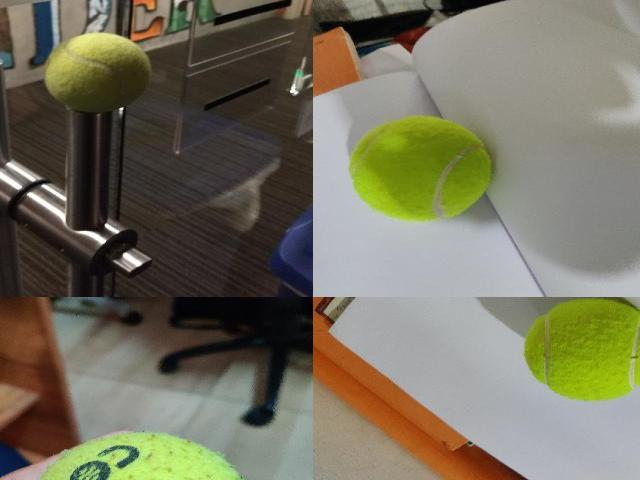tennis-ball: (348, 116, 493, 224), (523, 297, 639, 402), (40, 430, 242, 480), (42, 31, 152, 112)
